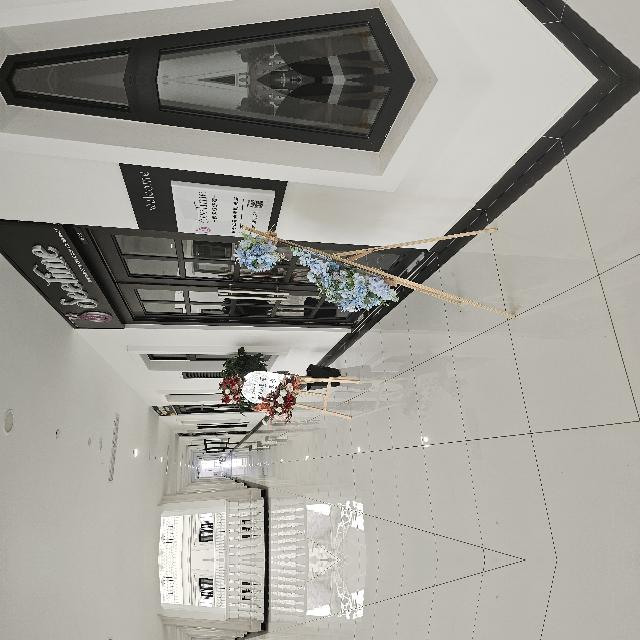obstacle: (240, 319, 336, 595), (240, 525, 335, 640), (142, 293, 212, 437)
